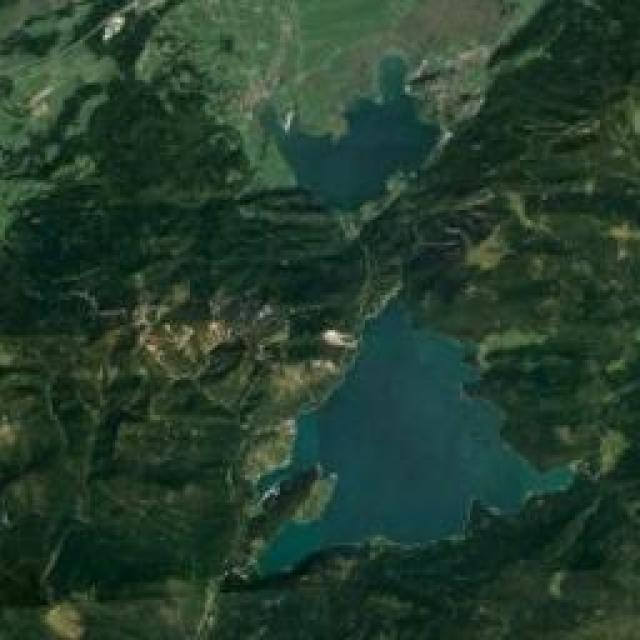Lake: (0, 0, 638, 638)
